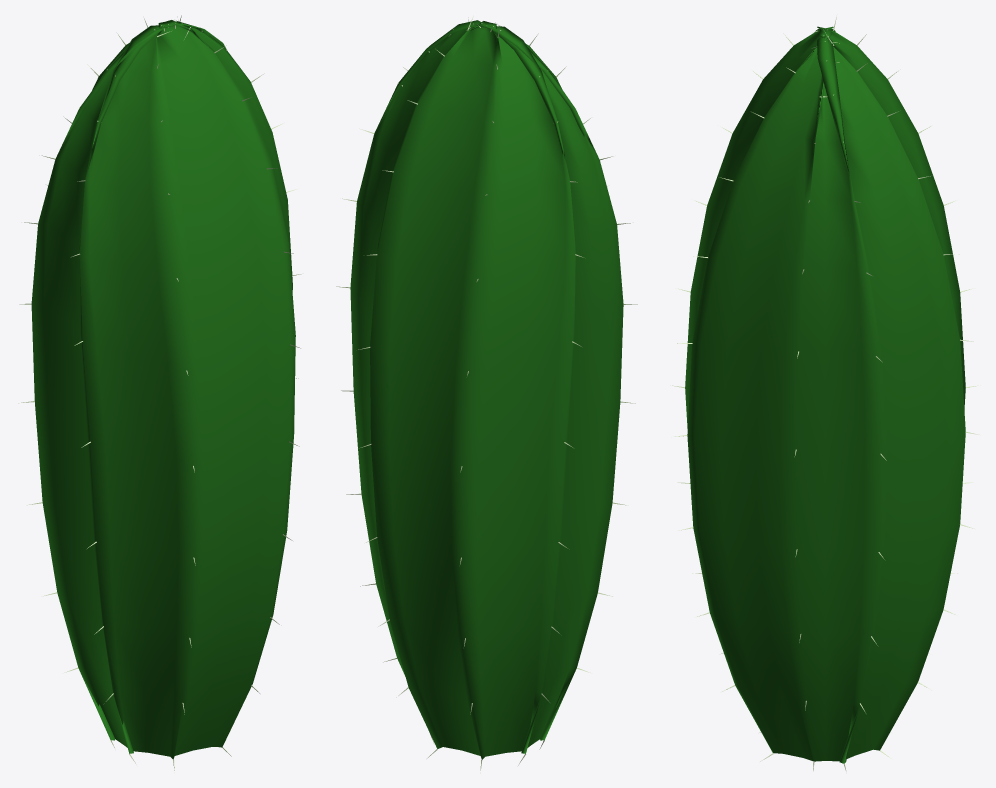
The model's file is cactus.glb.
3 renders of one model, left to right at view 1: azimuth 30°, elevation 25°; view 2: azimuth 150°, elevation 25°; view 3: azimuth 270°, elevation 25°, orthographic.
Parts seen in each view (by area): view 1: Cactus; view 2: Cactus; view 3: Cactus.
Boxes of the visible parts, box(x1,y1,x2,y2) form: Cactus: box(18, 15, 301, 772); Cactus: box(336, 16, 637, 770); Cactus: box(670, 17, 980, 771).
Bounding box in the file's own units: 0.4555 × 1.28 × 0.4956.
